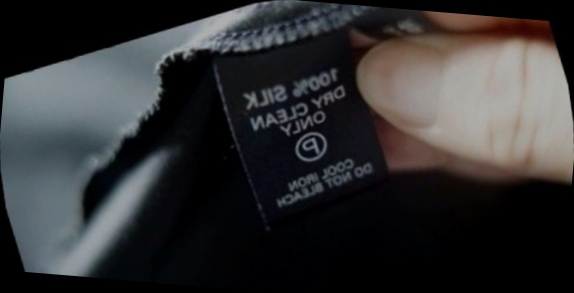dry_clean_any_solvent_except_trichloroethylene: (285, 123, 335, 170)
